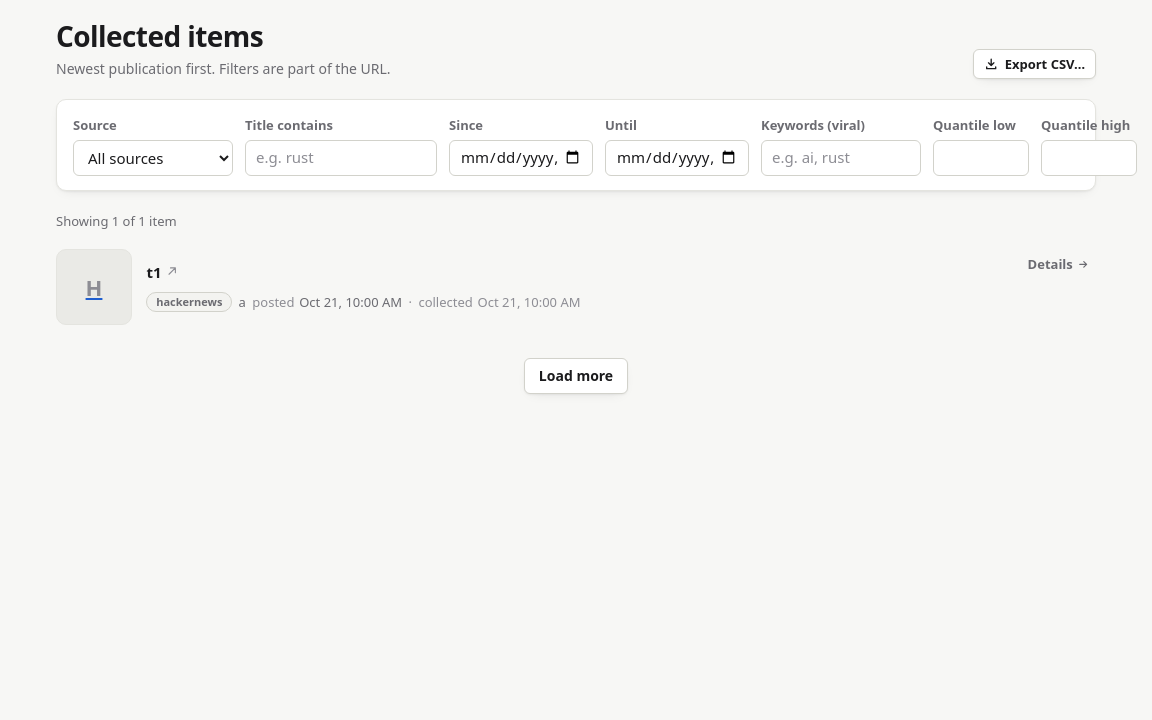
Test: ItemsView export dialog › opens from the Export button and lists every platform as a choice
Click the button "Export CSV…".
click(1034, 64)  # box left=973, top=49, right=1096, bottom=79
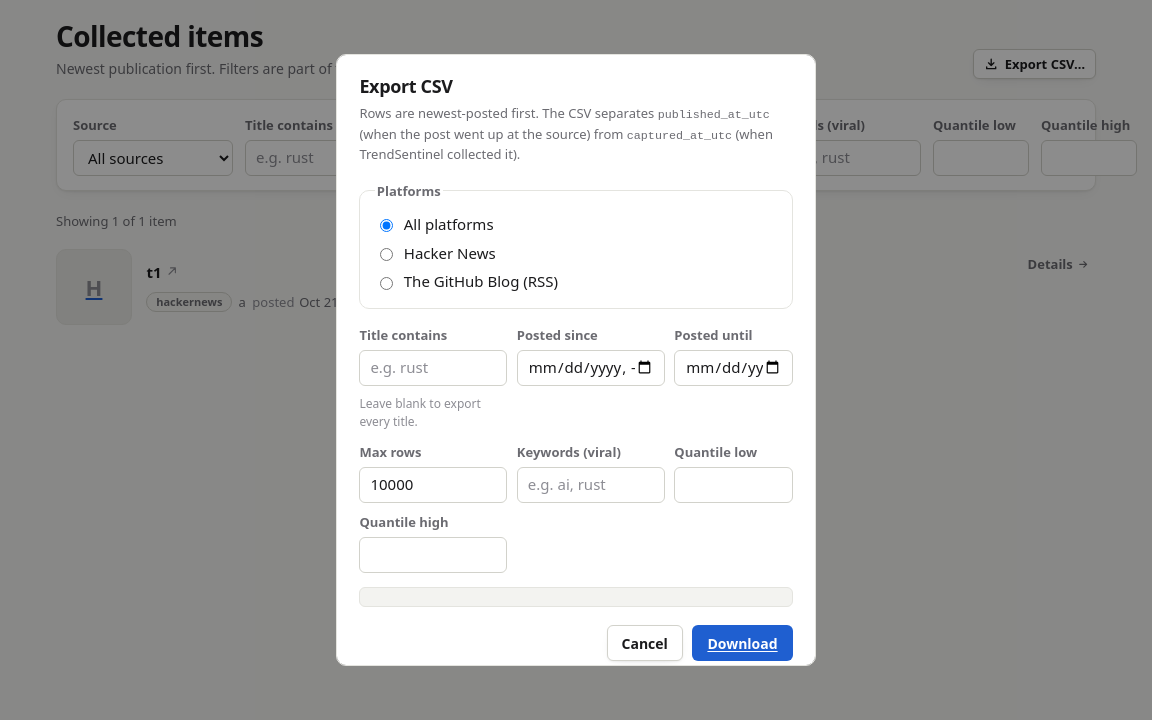
Now the dialog is shown
Now the dialog shows "All platforms", box left=404, top=214, right=494, bottom=234
